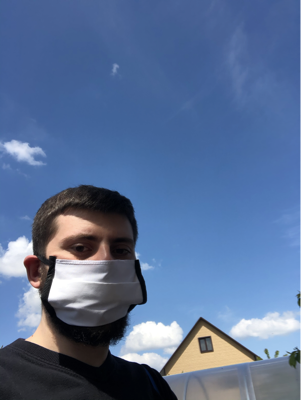with_mask: (48, 227, 146, 345)
